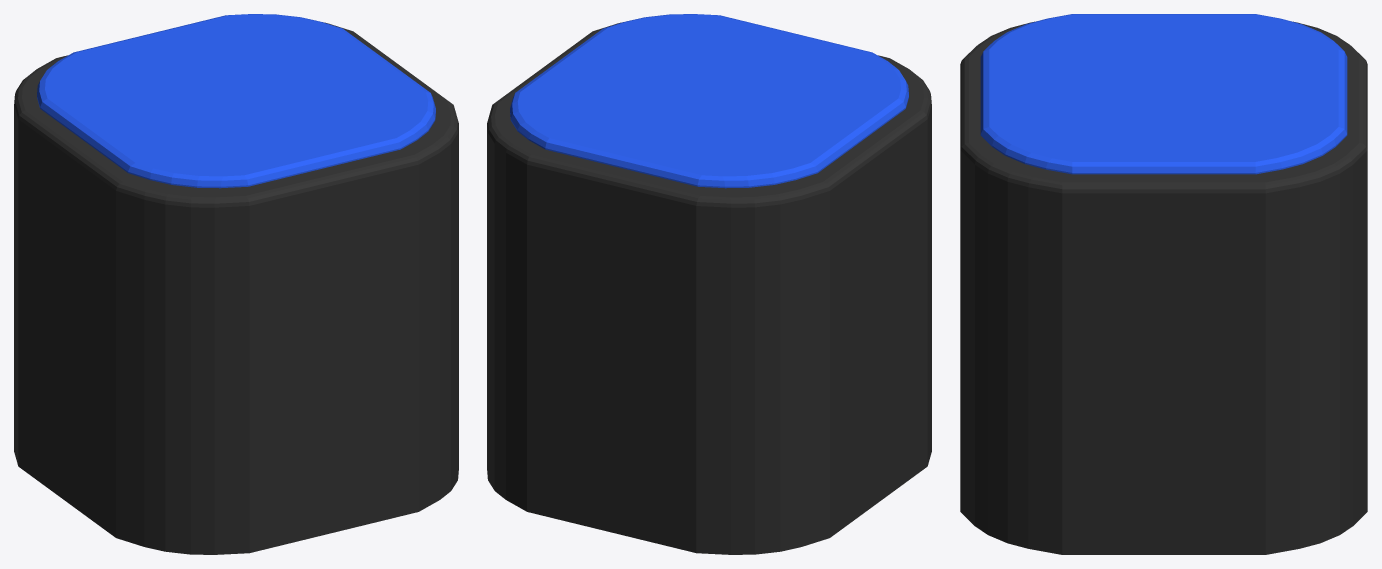
3 views of the same model, side by side, from view 1: azimuth 30°, elevation 25°; view 2: azimuth 150°, elevation 25°; view 3: azimuth 270°, elevation 25° (orthographic). The views are drawn at different scales.
Parts seen in each view (by area): view 1: Cube.008, Cube.064; view 2: Cube.008, Cube.064; view 3: Cube.008, Cube.064.
Part boxes in pixels (x1,y1,x2,y2): Cube.008: (14, 22, 458, 554); Cube.064: (37, 14, 435, 188); Cube.008: (487, 22, 931, 554); Cube.064: (510, 14, 908, 188); Cube.008: (960, 21, 1367, 554); Cube.064: (980, 14, 1347, 174).
Size of the model in its own units: 200 by 206 by 200.
